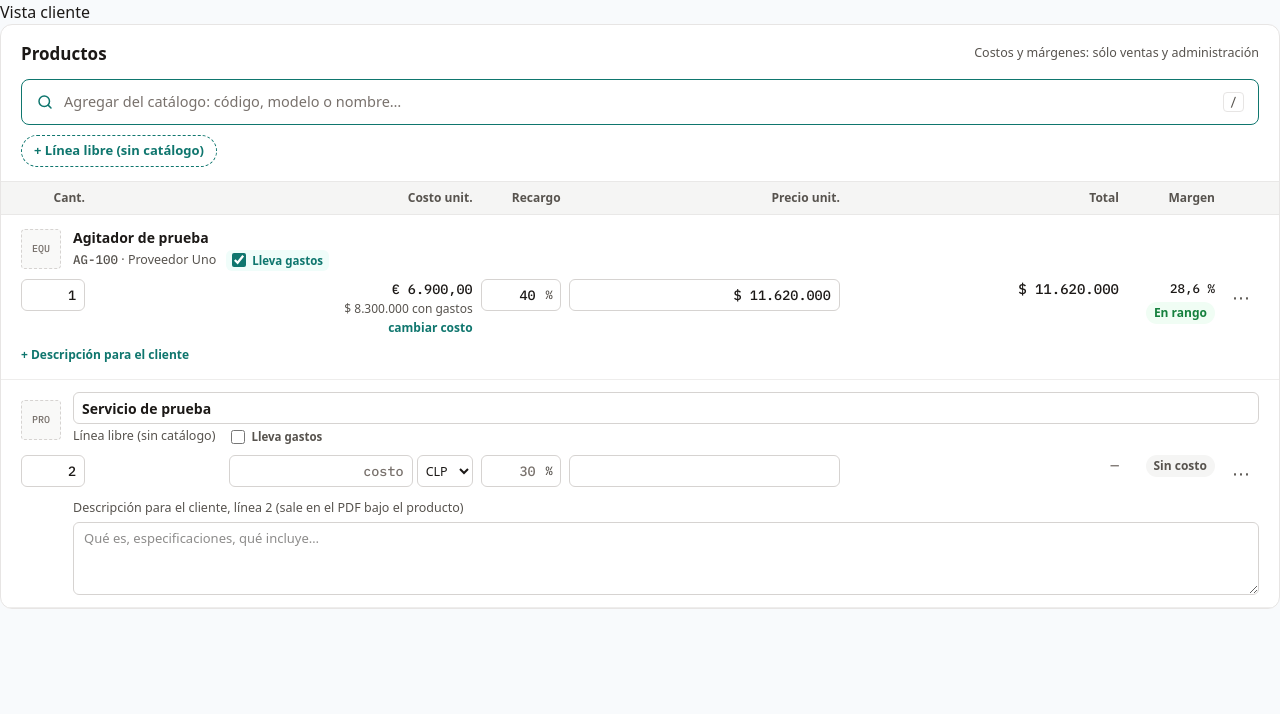
ProductsSection — adding products › finds the exact code first and adds it with Enter, with its product id and name
In the dropdown named "Agregar del catálogo": (638, 102) [64,91,1213,112], type "ag-100"
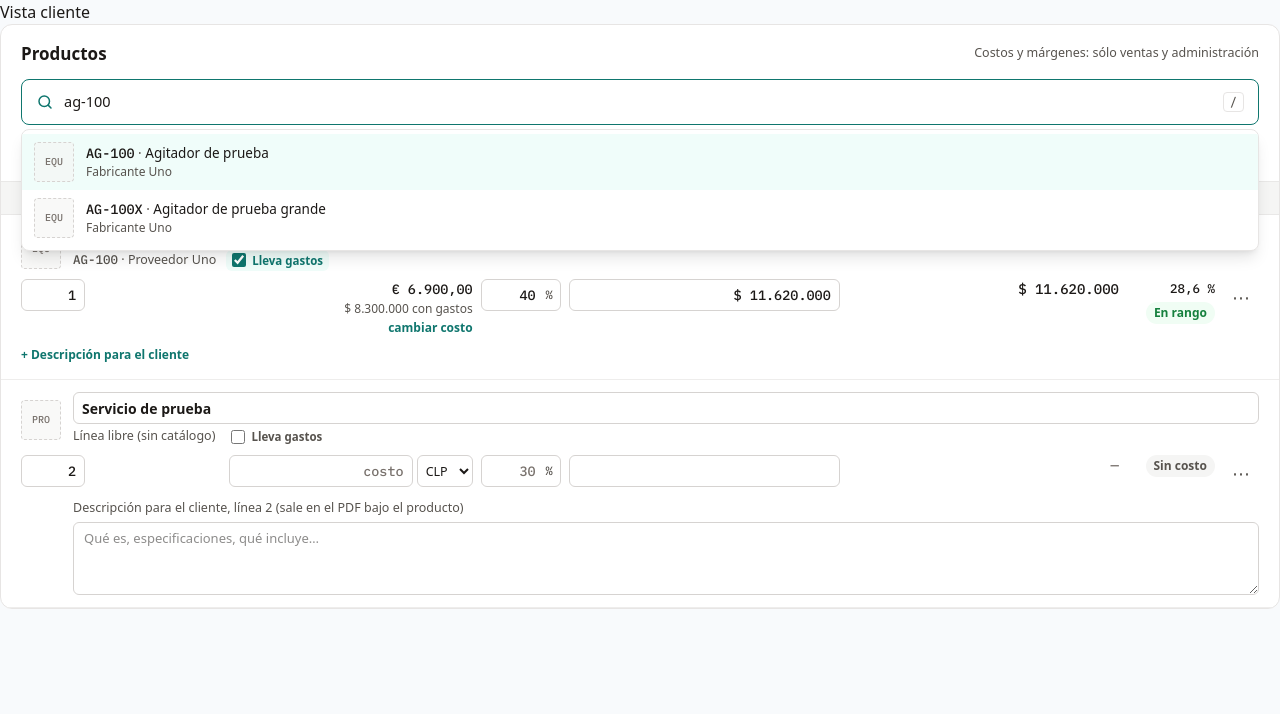
Check: the option "EQU AG-100 · Agitador de prueba Fabricante Uno" is shown, box [22,134,1258,190]
Check: the option "EQU AG-100X · Agitador de prueba grande Fabricante Uno" is shown, box [34,198,326,238]
Press Enter in the dropdown named "Agregar del catálogo", box [64,91,1213,112]
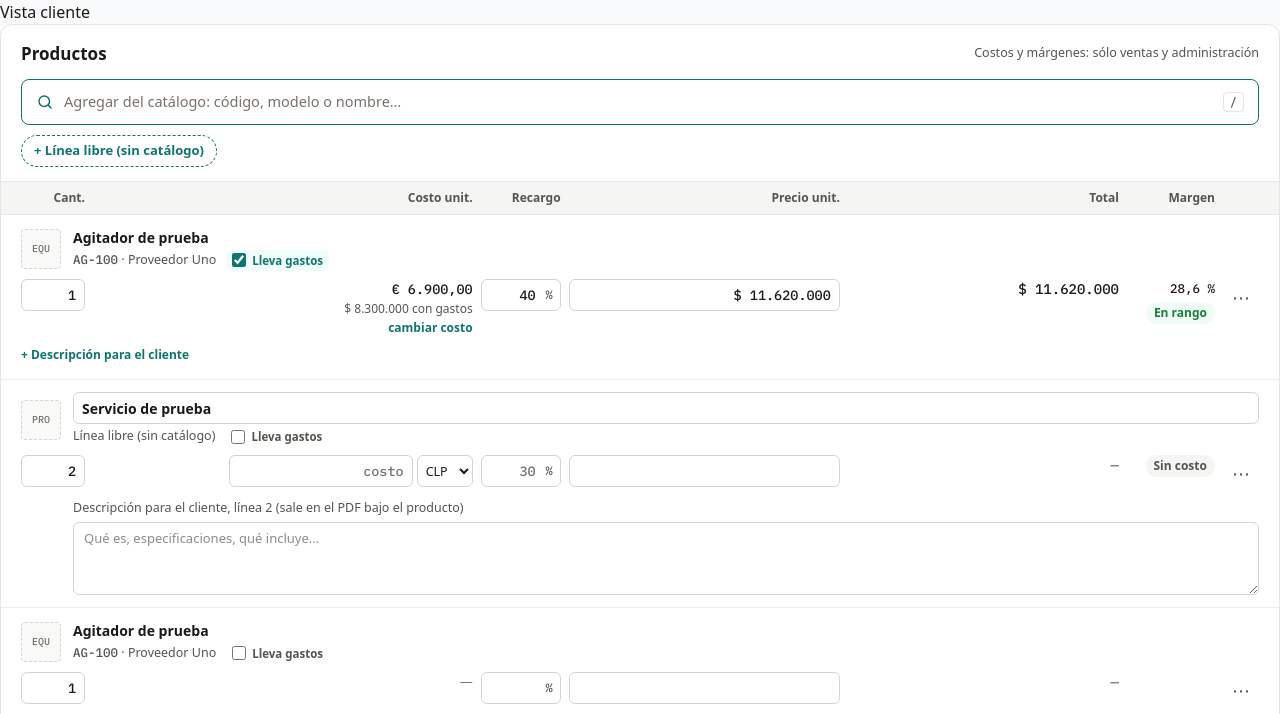
Check: the dropdown named "Agregar del catálogo" is empty, box [64,91,1213,112]
Check: the list is gone
